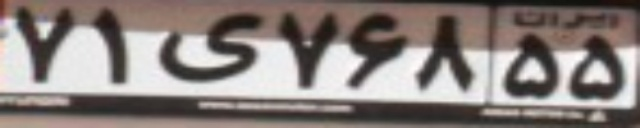1: (90, 5, 126, 83)
5: (567, 34, 626, 101), (500, 33, 559, 98)
6: (345, 11, 406, 88)
7: (10, 5, 75, 85), (277, 11, 337, 89)
8: (415, 13, 475, 92)
ye: (155, 11, 263, 83)
